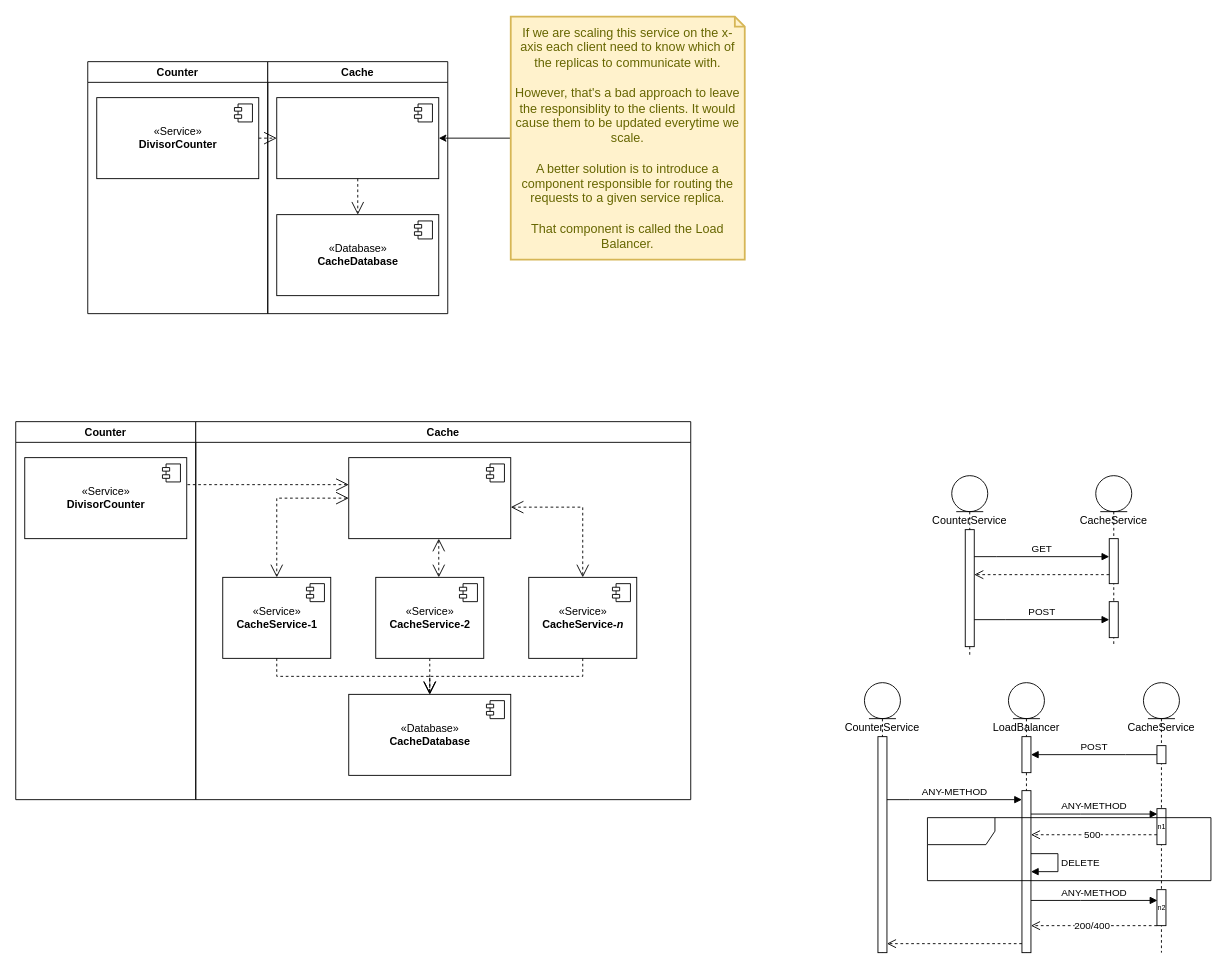
This 1227x968 diagram has some shape labels left out. The shapes that lost their labels are listed below. From the top down, each one's box as (x1, y1, x2, y2) in pixels, then its label:
(276, 97, 439, 179): «Service» CacheService
(348, 457, 511, 539): «API» LoadBalancer
(927, 817, 1211, 881): special case
